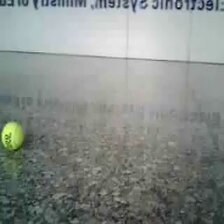tennis: (1, 121, 25, 151)
